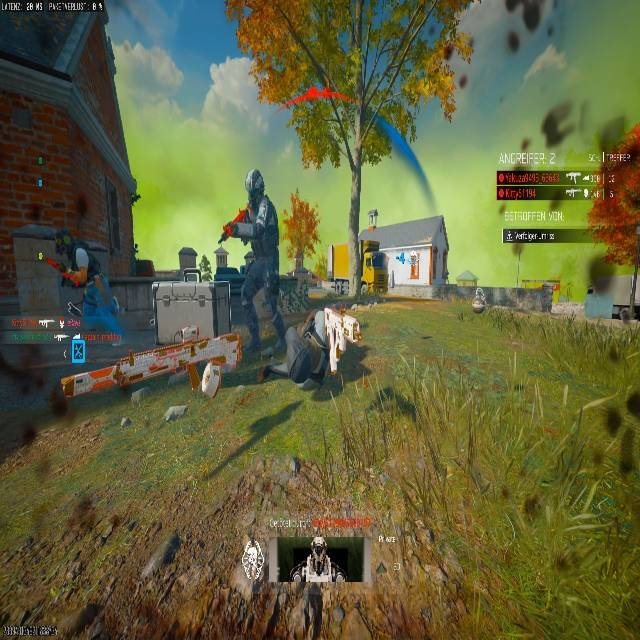head: (244, 169, 265, 202), (310, 536, 326, 556)
player: (218, 168, 287, 348), (290, 537, 345, 639), (197, 255, 211, 282)
